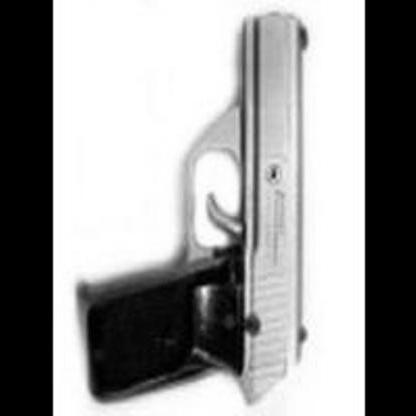weapon: (72, 7, 334, 405)
